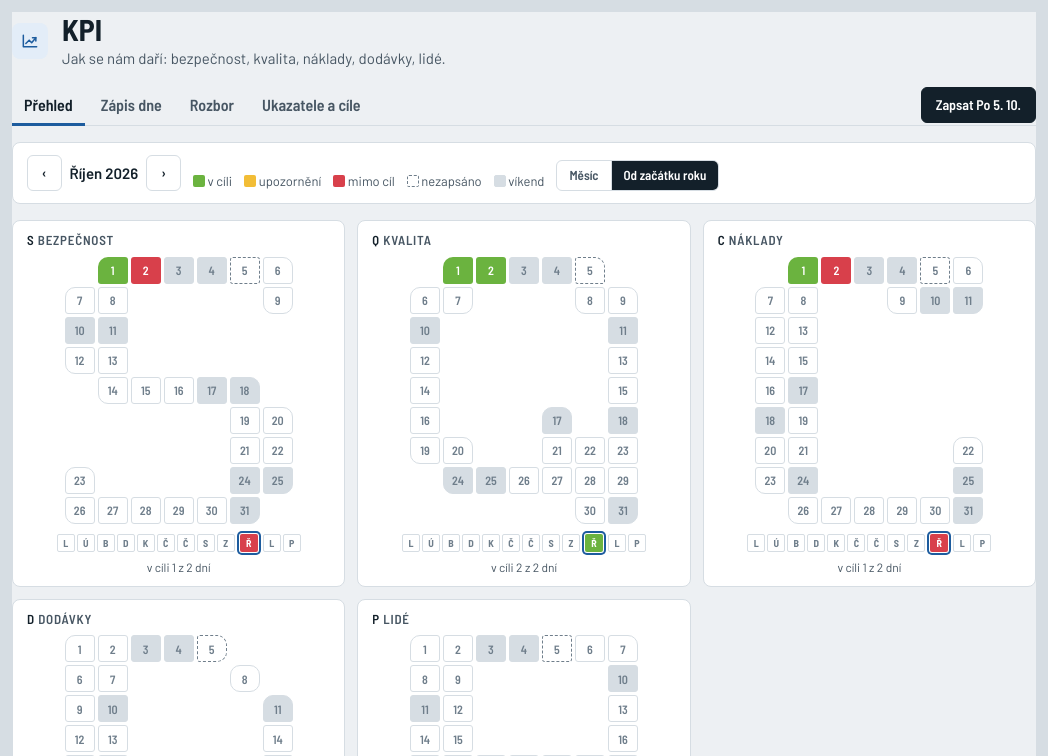
Test: KpiPage › kliknutí na den otevře jeho zápis v kartě Zápis dne
This screenshot has width=1048, height=756.
Click the 8th button with class "kpi-cell" at (491, 270), box x1=476 y1=257 x2=506 y2=284
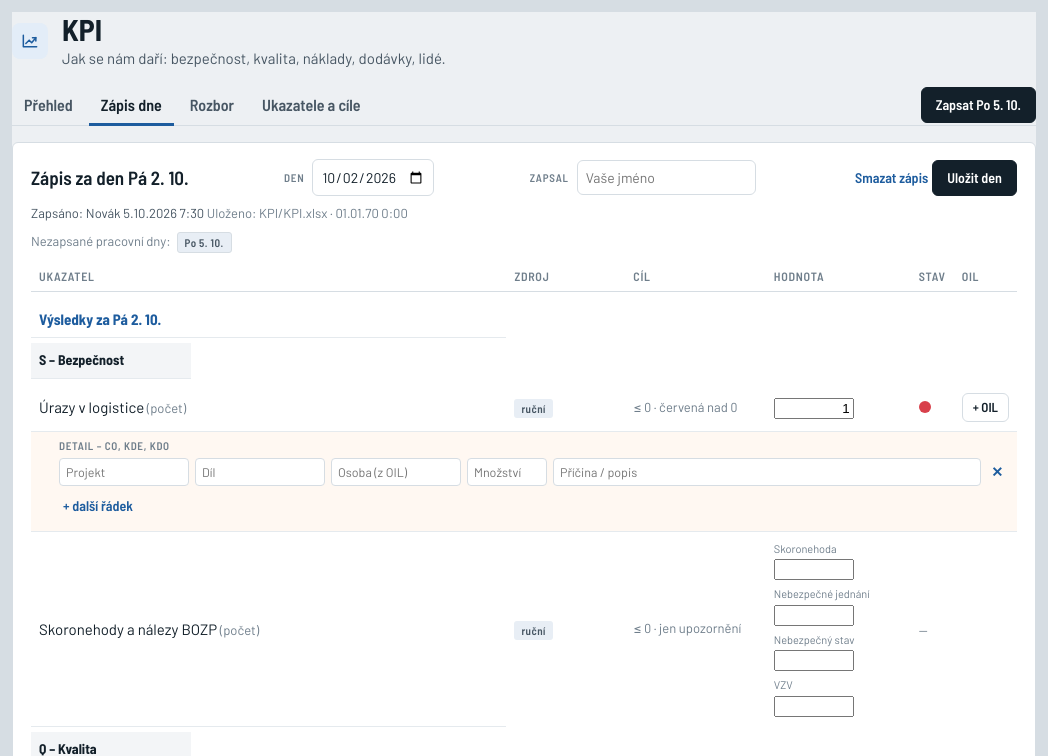
Expected: the heading "Zápis za den Pá 2. 10." is shown, x1=31 y1=166 x2=189 y2=190
Expected: the text "Zapsáno: Novák 5.10.2026 7:30" is shown, x1=31 y1=205 x2=204 y2=221
Expected: the field named "Úrazy v logistice" holds "1", x1=774 y1=398 x2=854 y2=419
